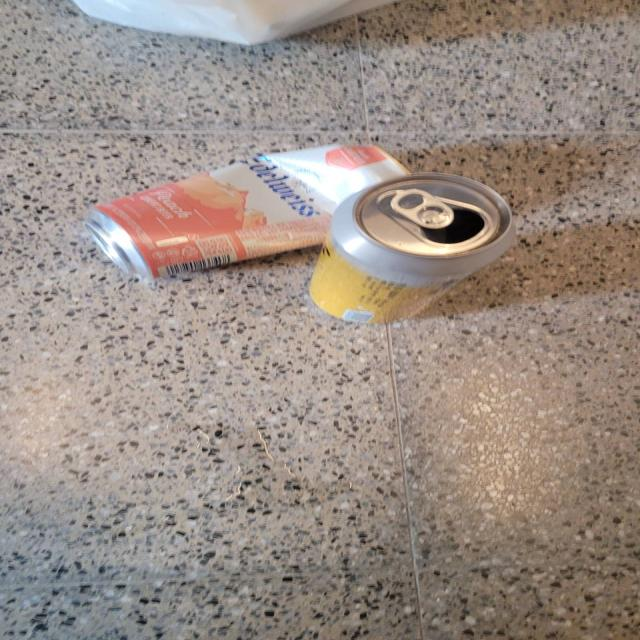Metal Cans: (73, 128, 436, 264), (295, 164, 535, 330)
